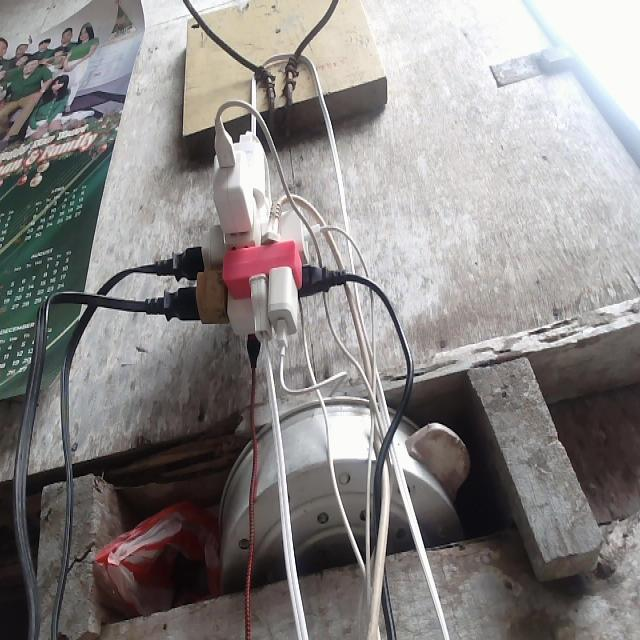-: (163, 129, 340, 359)
